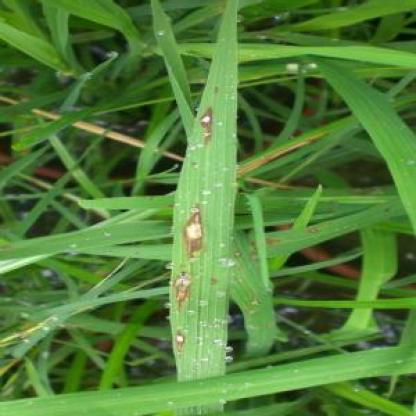Rice blast: (179, 206, 208, 259), (197, 87, 220, 148), (170, 274, 194, 309)
